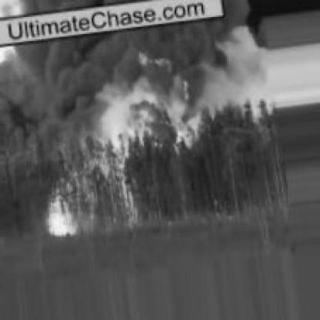Fire: (45, 86, 192, 238)
Smoke: (10, 2, 242, 96)
